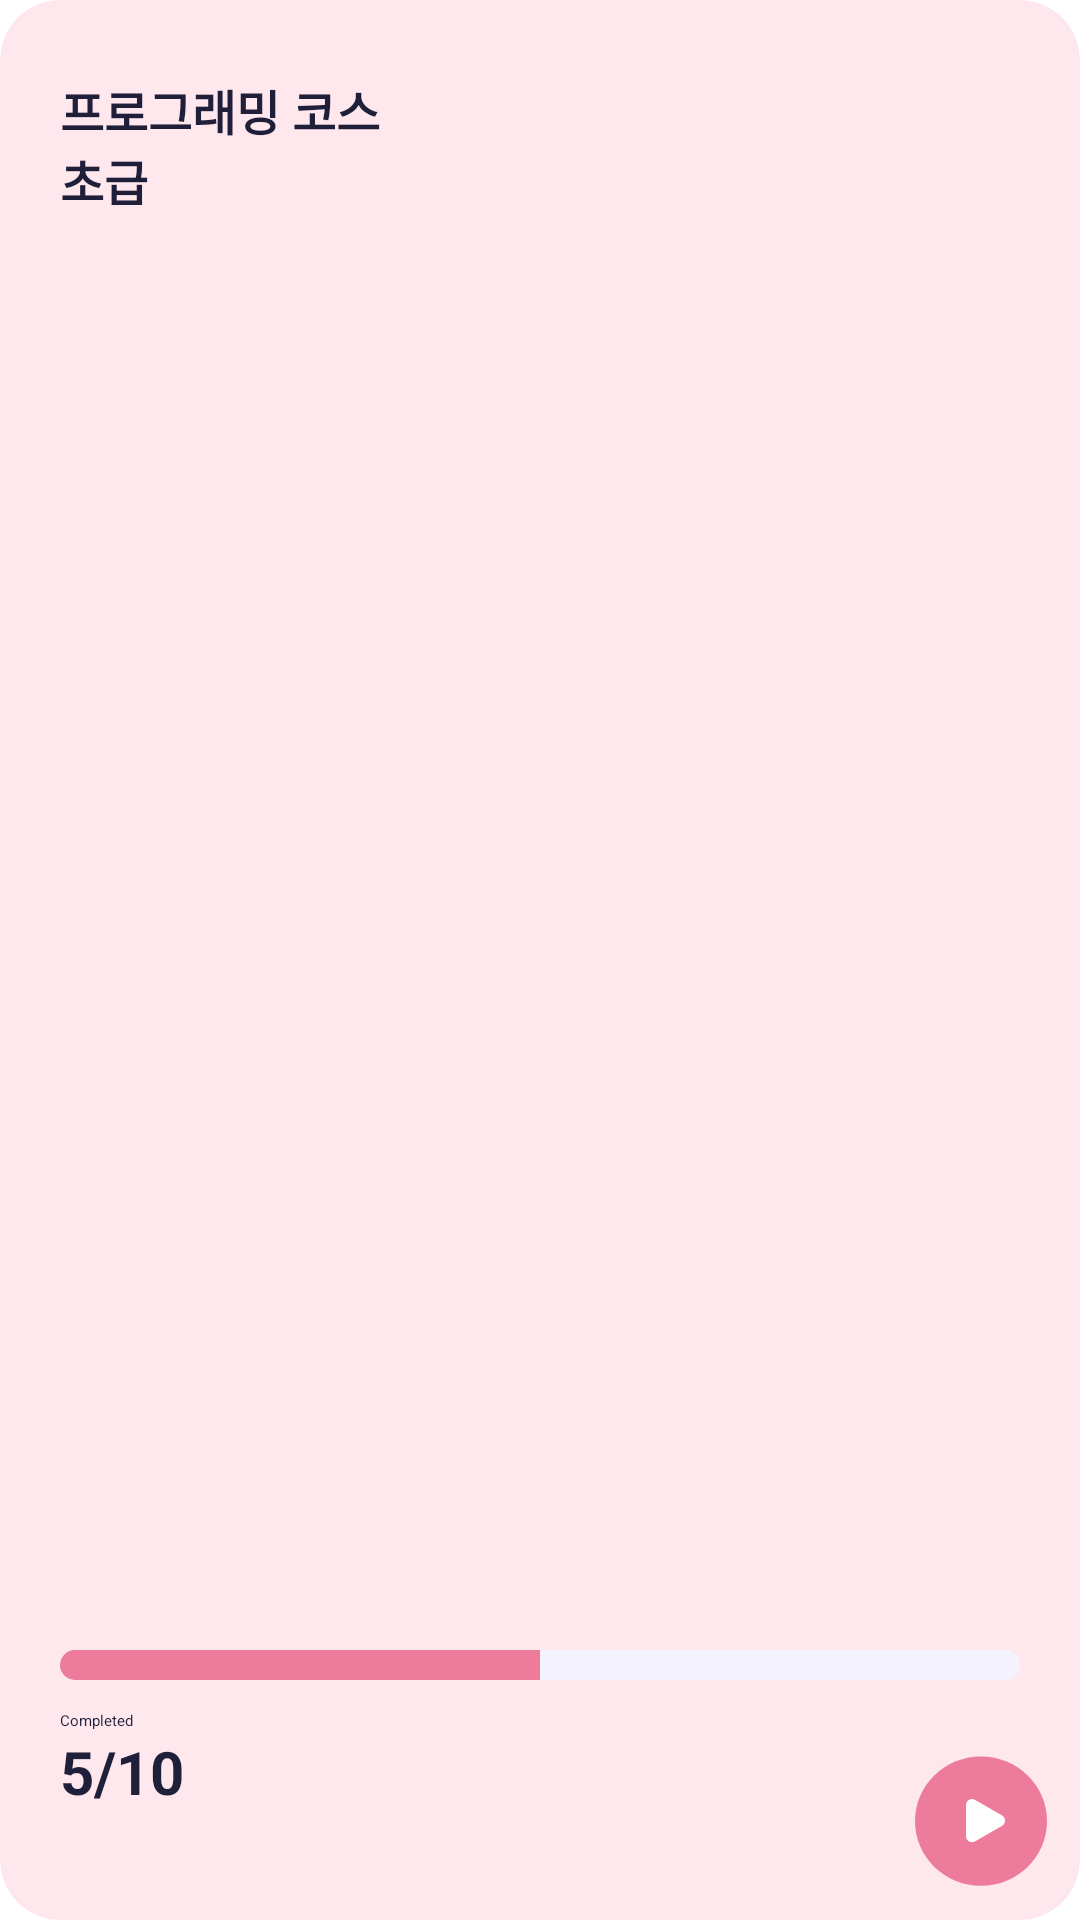

Icons on this 1080x1920 Android screen, each with its box as box=[x1, y1, x2, y2]:
play: box=[966, 1799, 1005, 1842]
